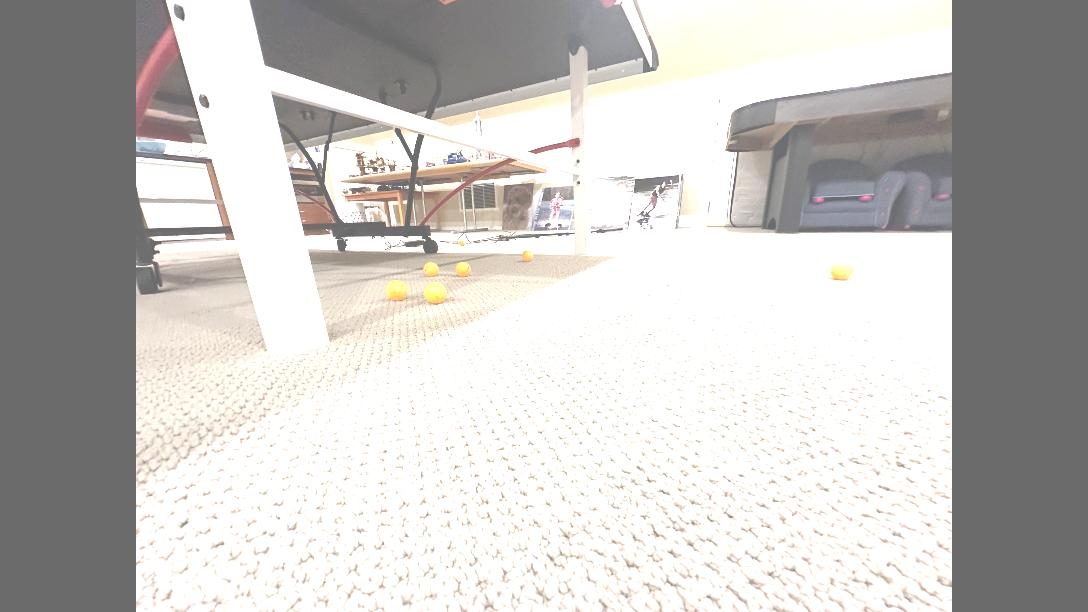Table-Tennis-Ball: (830, 260, 854, 280), (425, 282, 447, 302), (386, 280, 408, 300), (424, 262, 438, 276), (456, 262, 470, 276), (522, 250, 534, 262), (459, 238, 465, 245)
